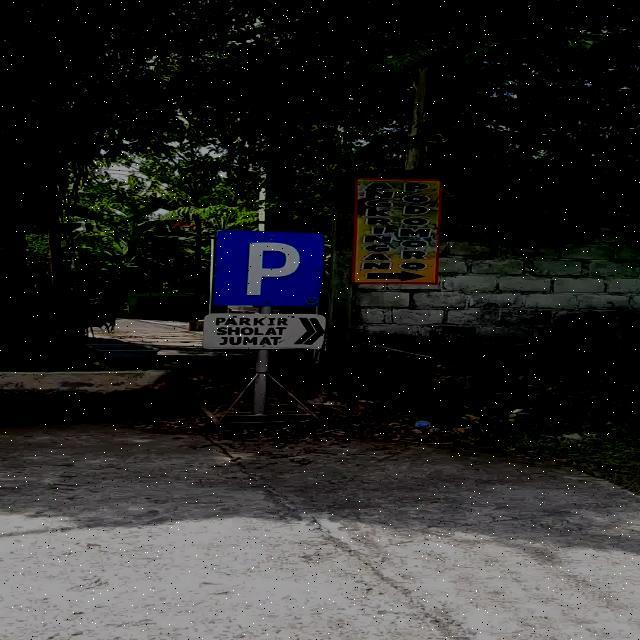Tempat Parkir: (212, 230, 324, 306)
